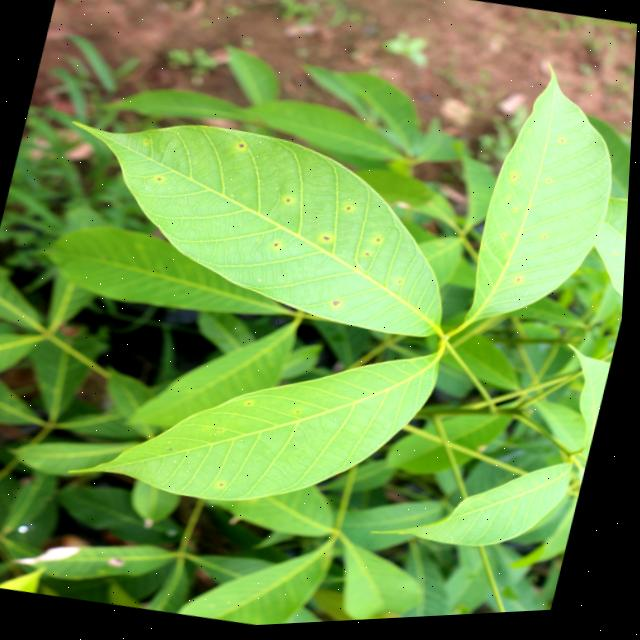Colletotrichum: (335, 303, 343, 309), (241, 145, 245, 149)
